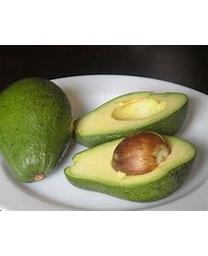avocado: (63, 133, 197, 203), (1, 74, 74, 185), (76, 90, 189, 148)
